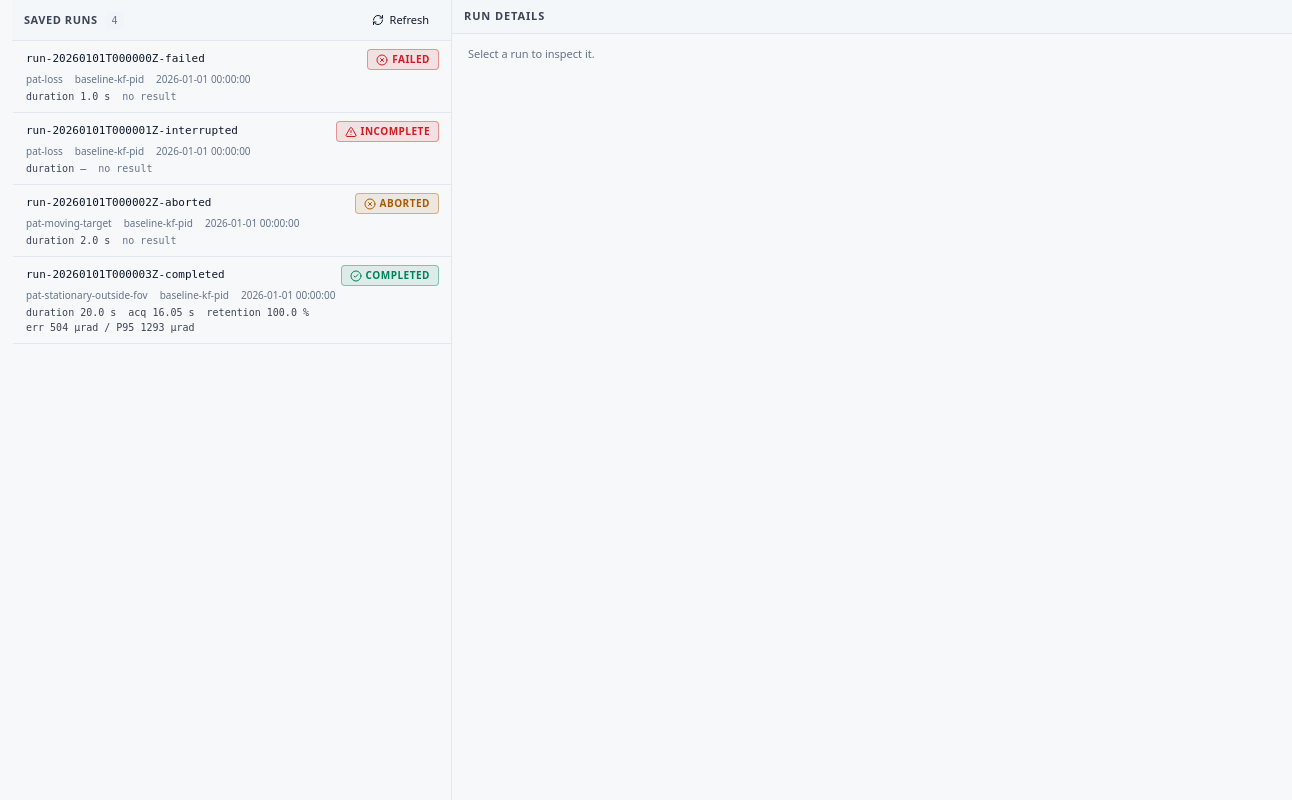
Test: inspecting a run › cannot open files from a browser tab, and says why
Click the button with aria-label "Open run run-20260101T000003Z-completed". click: (232, 300)
box: [12,257,451,344]
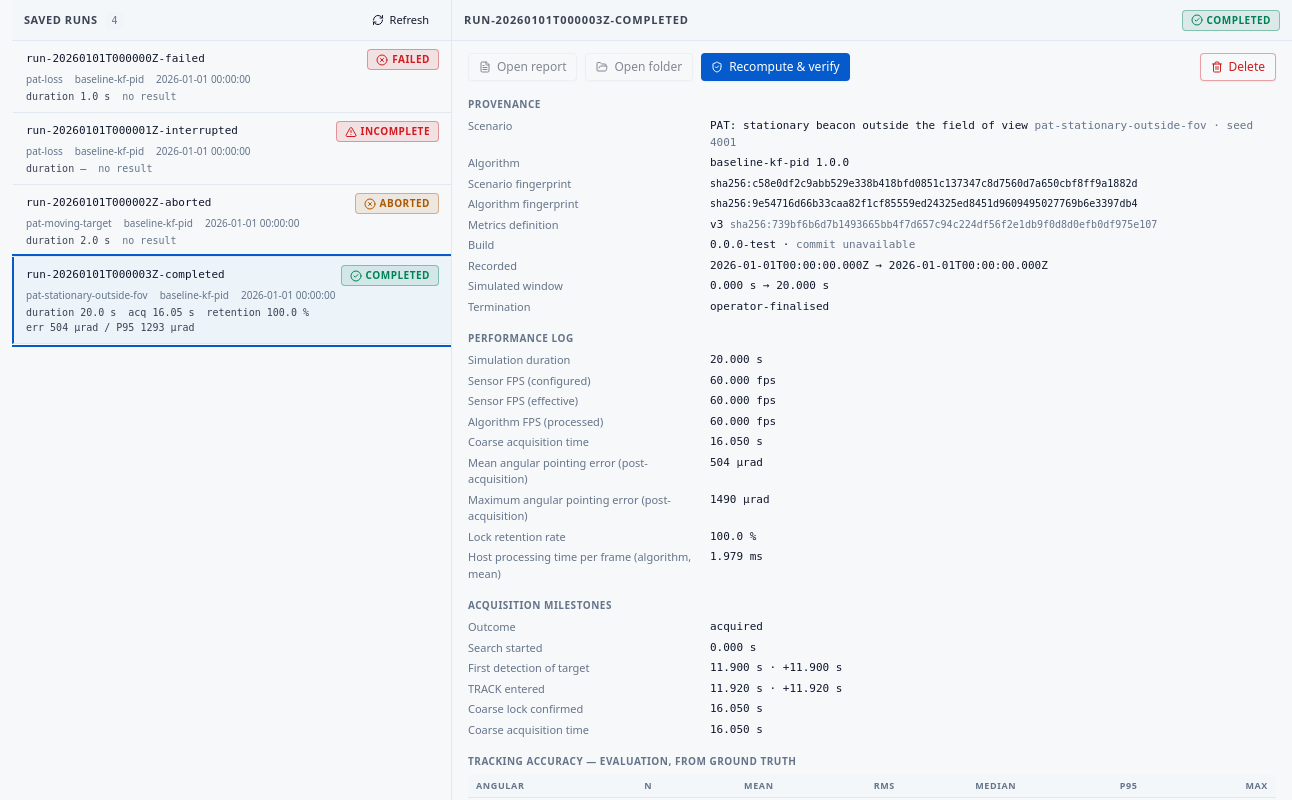
Check: the button "Open report" is disabled, box [468,53,578,81]
